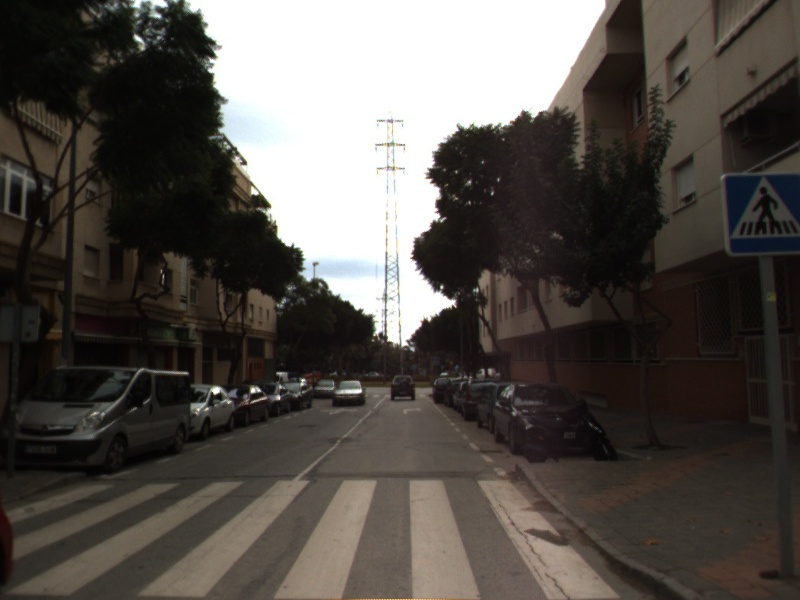RIGHT: (401, 405, 425, 417)
